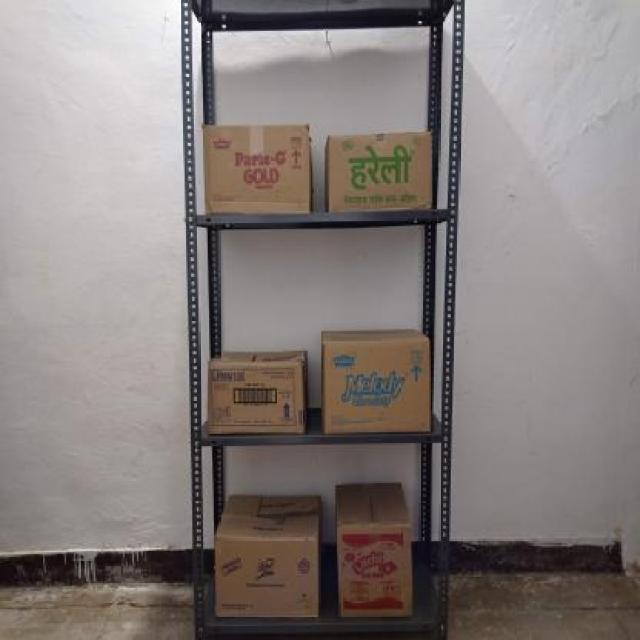box: (321, 338, 434, 436), (201, 124, 314, 213), (326, 134, 437, 212), (213, 536, 321, 616), (338, 523, 414, 622), (208, 360, 304, 438)
